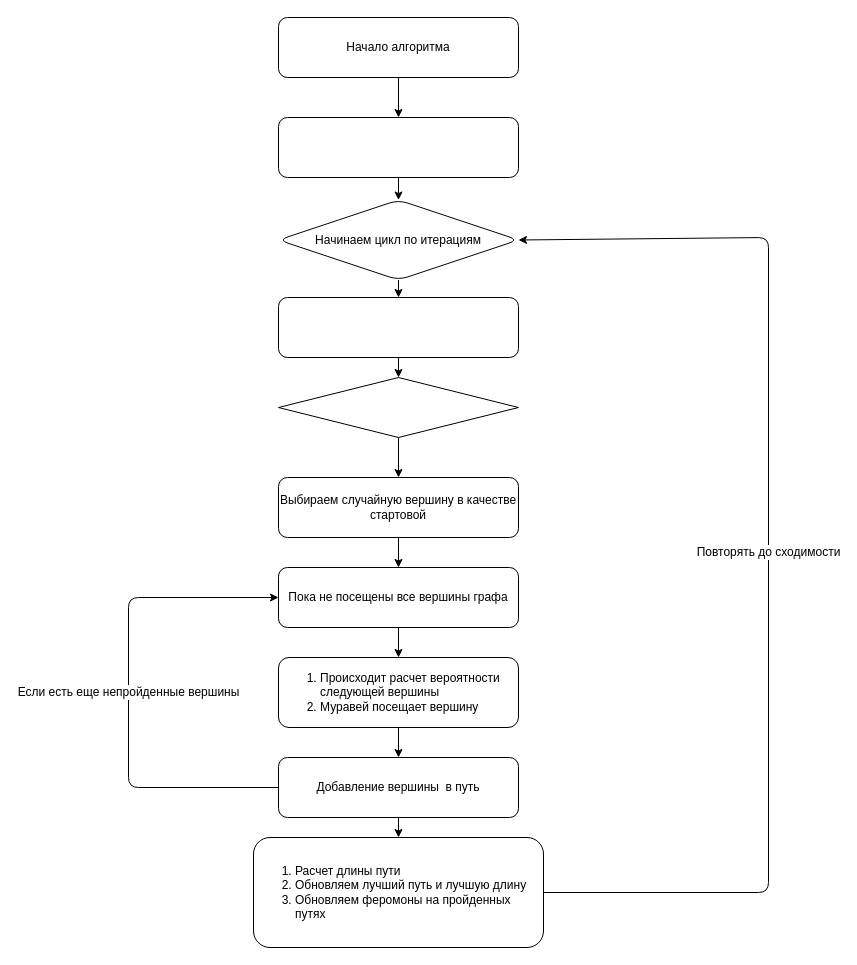
This 857x965 diagram has some shape labels left out. The centre of each missing label's shape, as x and y in pixels:
Для каждого муравья: pixel 398 407
Инициализация феромонов: pixel 398 147
Формируем колонию муравьев: pixel 398 327
